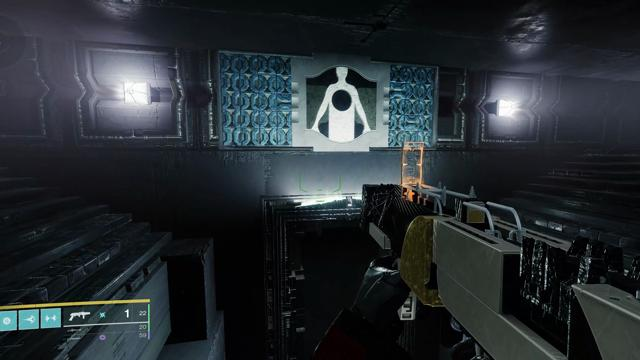grief: (306, 66, 377, 142)
